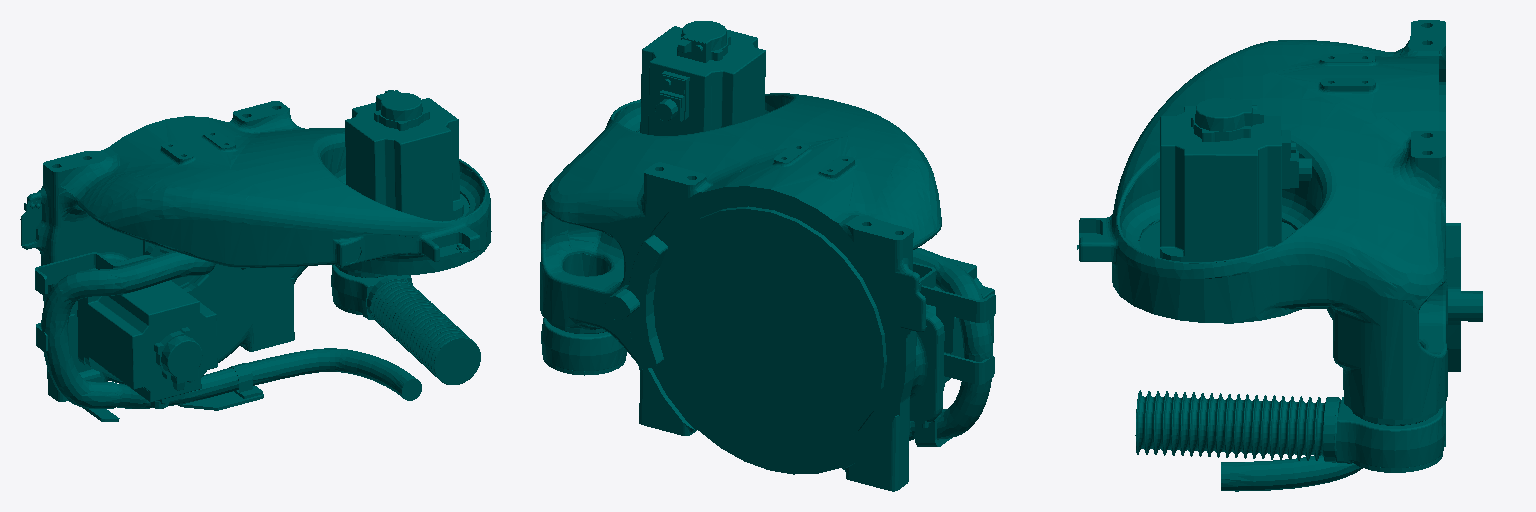
The robot description file, URDF, robot "ms210":
<?xml version="1.0" encoding="utf-8"?>
<!-- This URDF was automatically created by SolidWorks to URDF Exporter! Originally created by [author] ([email redacted])
     Commit Version: 1.5.1-0-g916b5db  Build Version: 1.5.7152.31018
     For more information, please see http://wiki.ros.org/sw_urdf_exporter -->
<robot
  name="ms210">
  <link  name="base_link">
    <inertial>
      <origin
        xyz="-0.0969353333485605 0.00019476061508981 0.148802927004027"
        rpy="0 0 0" />
      <mass
        value="85.3734144789457" />
      <inertia
        ixx="2.07062891397542"
        ixy="0.000411796913095095"
        ixz="-0.169557337897038"
        iyy="4.01531369457381"
        iyz="0.00101729194004793"
        izz="4.69087622403026" />
    </inertial>
    <visual>
      <origin
        xyz="0 0 0"
        rpy="0 0 0" />
      <geometry>
        <mesh
          filename="package://motoman_ms210_support/meshes/base_link.STL" />
      </geometry>
      <material
        name="">
        <color
          rgba="0 0.4 0.4 1" />
      </material>
    </visual>
    <collision>
      <origin
        xyz="0 0 0"
        rpy="0 0 0" />
      <geometry>
        <mesh
          filename="package://motoman_ms210_support/meshes/base_link.STL" />
      </geometry>
    </collision>
  </link>
  <link  name="link_s">
    <inertial>
      <origin
        xyz="0.1084002986612 0.0517026136587477 0.232398536276916"
        rpy="0 0 0" />
      <mass
        value="51.5240795117508" />
      <inertia
        ixx="1.83931840430019"
        ixy="-0.459402138194338"
        ixz="-0.395129802076457"
        iyy="3.26551008534587"
        iyz="-0.366514032620982"
        izz="3.26563055113986" />
    </inertial>
    <visual>
      <origin
        xyz="0 0 0"
        rpy="0 0 0" />
      <geometry>
        <mesh
          filename="package://motoman_ms210_support/meshes/link_s.STL" />
      </geometry>
      <material
        name="">
        <color
          rgba="0 0.4 0.4 1" />
      </material>
    </visual>
    <collision>
      <origin
        xyz="0 0 0"
        rpy="0 0 0" />
      <geometry>
        <mesh
          filename="package://motoman_ms210_support/meshes/link_s.STL" />
      </geometry>
    </collision>
  </link>
  <joint name="joint_s"
    type="continuous">
    <origin
      xyz="0 -0.262 0"
      rpy="1.5708 -0.021404 0" />
    <parent
      link="base_link" />
    <child
      link="link_s" />
    <axis
      xyz="0 0 1" />
    <limit
      lower="-3.1416"
      upper="3.1416"
      effort="0"
      velocity="0" />
  </joint>
  <link  name="link_l">
    <inertial>
      <origin
        xyz="0.321255117167952 -0.028368905789887 1.09499881709944"
        rpy="0 0 0" />
      <mass
        value="62.236048662205" />
      <inertia
        ixx="8.15494076066324"
        ixy="0.0029258782875198"
        ixz="0.0575270520969251"
        iyy="8.26747463532137"
        iyz="0.405728947181277"
        izz="0.622051249903859" />
    </inertial>
    <visual>
      <origin
        xyz="0 0 0"
        rpy="0 0 0" />
      <geometry>
        <mesh
          filename="package://motoman_ms210_support/meshes/link_l.STL" />
      </geometry>
      <material
        name="">
        <color
          rgba="0 0.4 0.4 1" />
      </material>
    </visual>
    <collision>
      <origin
        xyz="0 0 0"
        rpy="0 0 0" />
      <geometry>
        <mesh
          filename="package://motoman_ms210_support/meshes/link_l.STL" />
      </geometry>
    </collision>
  </link>
  <joint name="joint_l"
    type="continuous">
    <origin
      xyz="0.015747 0 -0.26964"
      rpy="0 -0.024083 0" />
    <parent
      link="link_s" />
    <child
      link="link_l" />
    <axis
      xyz="0 0 0" />
    <limit
      lower="-1.0472"
      upper="1.3265"
      effort="0"
      velocity="0" />
  </joint>
  <link  name="link_u">
    <inertial>
      <origin
        xyz="0.261475479305764 0.0397544664639943 0.184913318693553"
        rpy="0 0 0" />
      <mass
        value="61.9521236780792" />
      <inertia
        ixx="1.98880500386994"
        ixy="0.435245443167339"
        ixz="-1.63578982571973"
        iyy="7.42942470768916"
        iyz="0.375495507861086"
        izz="6.54756328759177" />
    </inertial>
    <visual>
      <origin
        xyz="0 0 0"
        rpy="0 0 0" />
      <geometry>
        <mesh
          filename="package://motoman_ms210_support/meshes/link_u.STL" />
      </geometry>
      <material
        name="">
        <color
          rgba="0 0.4 0.4 1" />
      </material>
    </visual>
    <collision>
      <origin
        xyz="0 0 0"
        rpy="0 0 0" />
      <geometry>
        <mesh
          filename="package://motoman_ms210_support/meshes/link_u.STL" />
      </geometry>
    </collision>
  </link>
  <joint name="joint_u"
    type="continuous">
    <origin
      xyz="0.325 -0.00021402 1.8"
      rpy="0 0.46111 0" />
    <parent
      link="link_l" />
    <child
      link="link_u" />
    <axis
      xyz="0 1 0" />
    <limit
      lower="-2.5656"
      upper="1.5708"
      effort="0"
      velocity="0" />
  </joint>
  <link  name="link_r">
    <inertial>
      <origin
        xyz="0.146105819710883 -0.0559583268574394 3.98935784247101E-05"
        rpy="0 0 0" />
      <mass
        value="6.48881754880285" />
      <inertia
        ixx="0.0362651868934917"
        ixy="0.015303145986784"
        ixz="-8.38097047526666E-06"
        iyy="0.0561439242615243"
        iyz="-2.47013171349387E-05"
        izz="0.0667540959508842" />
    </inertial>
    <visual>
      <origin
        xyz="0 0 0"
        rpy="0 0 0" />
      <geometry>
        <mesh
          filename="package://motoman_ms210_support/meshes/link_r.STL" />
      </geometry>
      <material
        name="">
        <color
          rgba="0 0.4 0.4 1" />
      </material>
    </visual>
    <collision>
      <origin
        xyz="0 0 0"
        rpy="0 0 0" />
      <geometry>
        <mesh
          filename="package://motoman_ms210_support/meshes/link_r.STL" />
      </geometry>
    </collision>
  </link>
  <joint name="joint_r"
    type="continuous">
    <origin
      xyz="1.0365 0.00021402 0.3"
      rpy="0.0094618 0 0" />
    <parent
      link="link_u" />
    <child
      link="link_r" />
    <axis
      xyz="1 0 0" />
    <limit
      lower="-6.2832"
      upper="6.2832"
      effort="0"
      velocity="0" />
  </joint>
  <link  name="link_b">
    <inertial>
      <origin
        xyz="0.0920586065412201 -0.013255489806254 6.32486081293404E-05"
        rpy="0 0 0" />
      <mass
        value="5.83918565889158" />
      <inertia
        ixx="0.0401869297760405"
        ixy="0.0046206280655018"
        ixz="-1.47997952329969E-05"
        iyy="0.0531105727168547"
        iyz="9.81420612570741E-05"
        izz="0.0631395503155317" />
    </inertial>
    <visual>
      <origin
        xyz="0 0 0"
        rpy="0 0 0" />
      <geometry>
        <mesh
          filename="package://motoman_ms210_support/meshes/link_b.STL" />
      </geometry>
      <material
        name="">
        <color
          rgba="0 0.4 0.4 1" />
      </material>
    </visual>
    <collision>
      <origin
        xyz="0 0 0"
        rpy="0 0 0" />
      <geometry>
        <mesh
          filename="package://motoman_ms210_support/meshes/link_b.STL" />
      </geometry>
    </collision>
  </link>
  <joint name="joint_b"
    type="continuous">
    <origin
      xyz="0.18851 0 0"
      rpy="0 -0.18526 0" />
    <parent
      link="link_r" />
    <child
      link="link_b" />
    <axis
      xyz="0 1 0" />
    <limit
      lower="-2.2689"
      upper="2.2689"
      effort="0"
      velocity="0" />
  </joint>
  <link  name="link_t">
    <inertial>
      <origin
        xyz="0.0217192175747298 4.9591121182857E-05 -2.65145729258891E-05"
        rpy="0 0 0" />
      <mass
        value="0.571660195914766" />
      <inertia
        ixx="0.00261266388392397"
        ixy="-7.08533470690671E-07"
        ixz="1.18895787439185E-07"
        iyy="0.00133440954914045"
        iyz="-1.21394809791374E-06"
        izz="0.00133467235878143" />
    </inertial>
    <visual>
      <origin
        xyz="0 0 0"
        rpy="0 0 0" />
      <geometry>
        <mesh
          filename="package://motoman_ms210_support/meshes/link_t.STL" />
      </geometry>
      <material
        name="">
        <color
          rgba="0 0.4 0.4 1" />
      </material>
    </visual>
    <collision>
      <origin
        xyz="0 0 0"
        rpy="0 0 0" />
      <geometry>
        <mesh
          filename="package://motoman_ms210_support/meshes/link_t.STL" />
      </geometry>
    </collision>
  </link>
  <joint name="joint_t"
    type="continuous">
    <origin
      xyz="0.21566 0 0"
      rpy="-1.5749 0 0" />
    <parent
      link="link_b" />
    <child
      link="link_t" />
    <axis
      xyz="1 0 0" />
    <limit
      lower="-6.2832"
      upper="6.2832"
      effort="0"
      velocity="0" />
  </joint>
</robot>

--- What the picture shows (computed from the rendered views, not written in the file) ---
Views: 3 orthographic renders of the robot side by side, from view 1: azimuth 30°, elevation 25°; view 2: azimuth 150°, elevation 25°; view 3: azimuth 270°, elevation 25°.
Model ms210 with 7 links and 6 joints (6 continuous), rooted at base_link, posed all joints at 0.
Links seen in each view (by area): view 1: link_s; view 2: link_s; view 3: link_s.
Boxes of the visible links, x1,y1,x2,y2 form: link_s: (20,90,491,421); link_s: (540,21,995,491); link_s: (1077,20,1482,491).
Size in the robot's own frame: 0.831 by 0.602 by 0.6327 metres.
1 mesh visuals loaded from 7 distinct referenced files (1 binary STL); not drawn: 6 (reference not matched to a file when rendering).